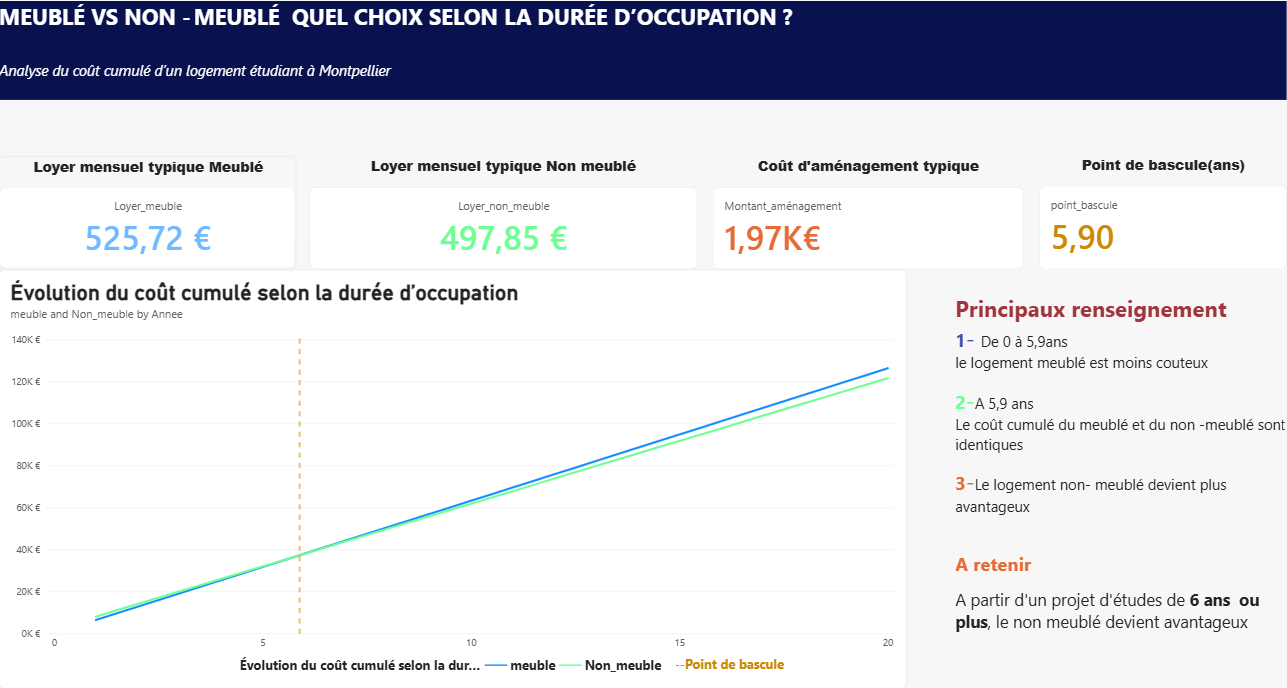

Layout of this report page (visuals, bound fields, positions):
{"tool":"powerbi","page":{"name":"Page 1","canvas":[1920,1080],"ordinal":0},"visuals":[{"type":"cardVisual","title":"Loyer mensuel typique Non meublé","fields":{"Data":["Sum(tableau1.Loyer_non_meuble)"]},"box":[470.5,267.8,562.8,164.7],"z":0},{"type":"cardVisual","title":"Loyer mensuel typique  Meublé","fields":{"Data":["Sum(tableau1.Loyer_meuble)"]},"box":[21.7,267.8,430.7,164.7],"z":1000},{"type":"cardVisual","title":"Coût d''aménagement typique","fields":{"Data":["Sum(tableau1.Montant_aménagement)"]},"box":[1055,267.8,450.6,164.7],"z":2000},{"type":"cardVisual","title":"Point de bascule(ans)","fields":{"Data":["Sum(tableau1.point_bascule)"]},"box":[1527.4,266,360.1,166.5],"z":3000},{"type":"lineChart","title":"Évolution du coût cumulé selon la durée d’occupation","fields":{"Category":["tableau2.Annee"],"Y":["Sum(tableau2.Cout_meuble)","Sum(tableau2.Cout_non_meuble)"]},"box":[21.7,432.5,1313.8,606.2],"z":4000},{"type":"textbox","box":[21.7,43.4,1865.8,143],"z":5000},{"type":"textbox","box":[1406.1,448.8,481.4,356.5],"z":6000},{"type":"textbox","box":[1406.1,839.7,481.4,199.1],"z":7000},{"type":"textbox","box":[1000.7,989.9,307.6,32.6],"z":7001}]}

Visuals, with their boxes on the page's 1920x1080 design canvas (x1, y1, x2, y2). These are canvas units, not pixel positions in the 1287x688 screenshot, which may show the page scaled, cropped or inside an application window:
"Loyer mensuel typique Non meublé" cardVisual: 470:268:1033:432
"Loyer mensuel typique  Meublé" cardVisual: 22:268:452:432
"Coût d''aménagement typique" cardVisual: 1055:268:1506:432
"Point de bascule(ans)" cardVisual: 1527:266:1888:432
"Évolution du coût cumulé selon la durée d’occupation" lineChart: 22:432:1336:1039
textbox: 22:43:1888:186
textbox: 1406:449:1888:805
textbox: 1406:840:1888:1039
textbox: 1001:990:1308:1022
